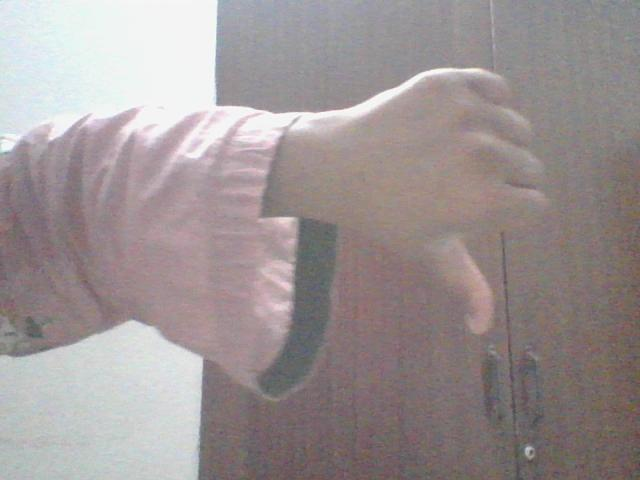thumbs-down: (386, 64, 557, 330)
